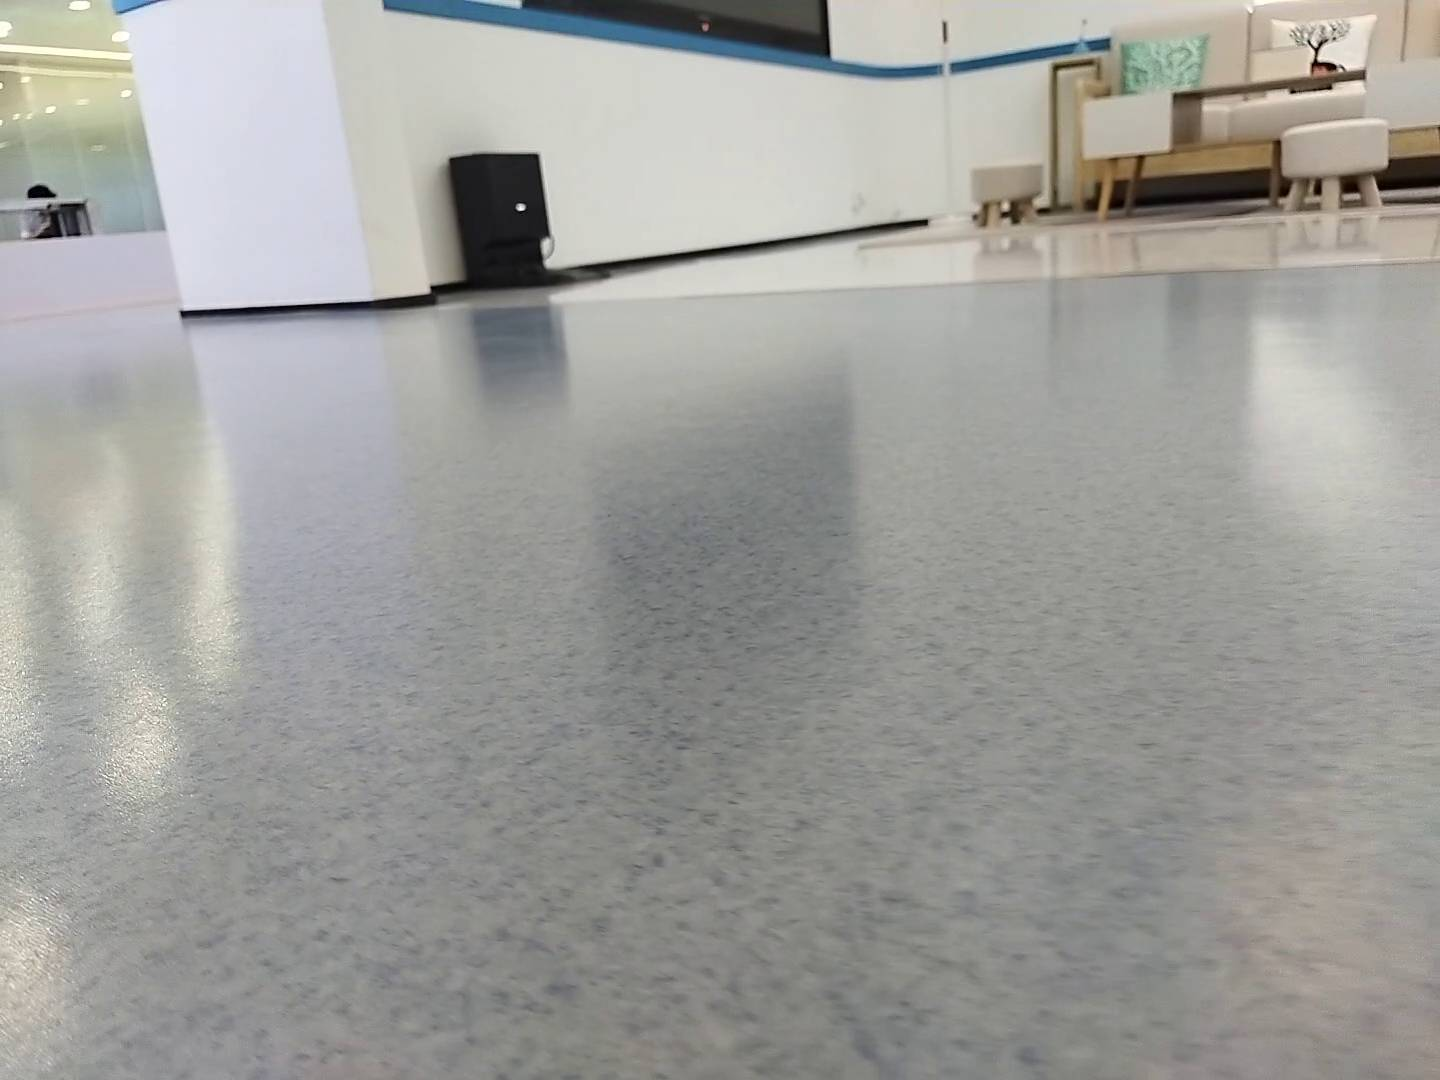dust collecting barrel: (447, 152, 615, 286)
